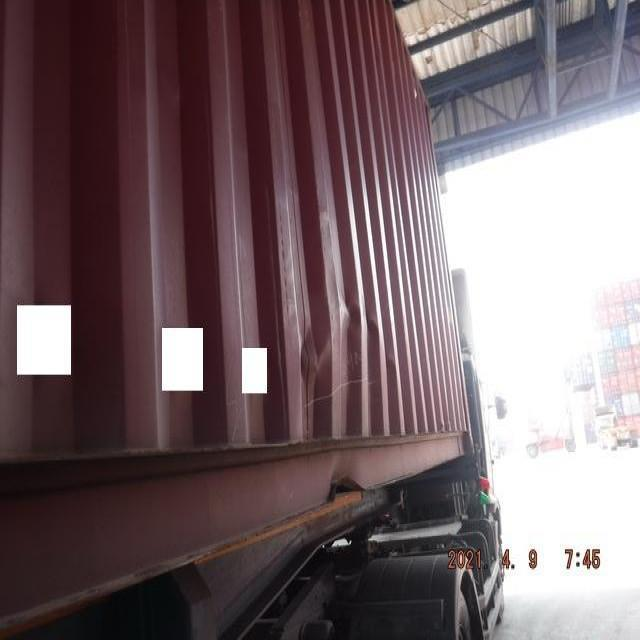Dent: (276, 280, 400, 393)
